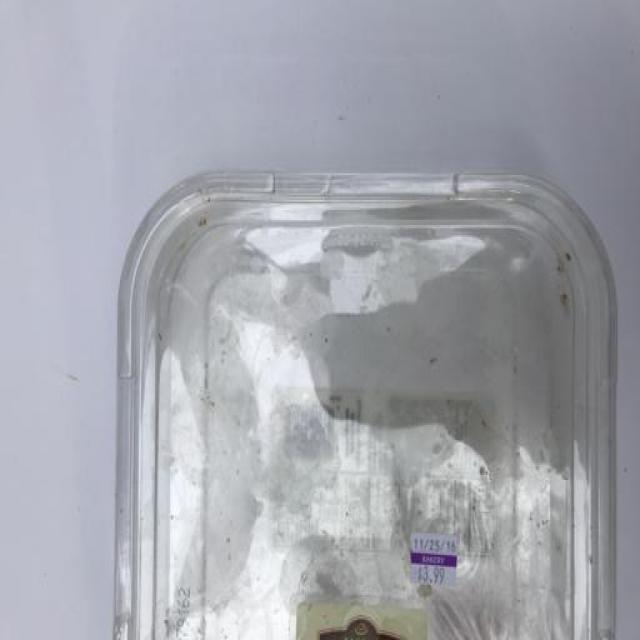Plastic: (113, 171, 616, 640)
